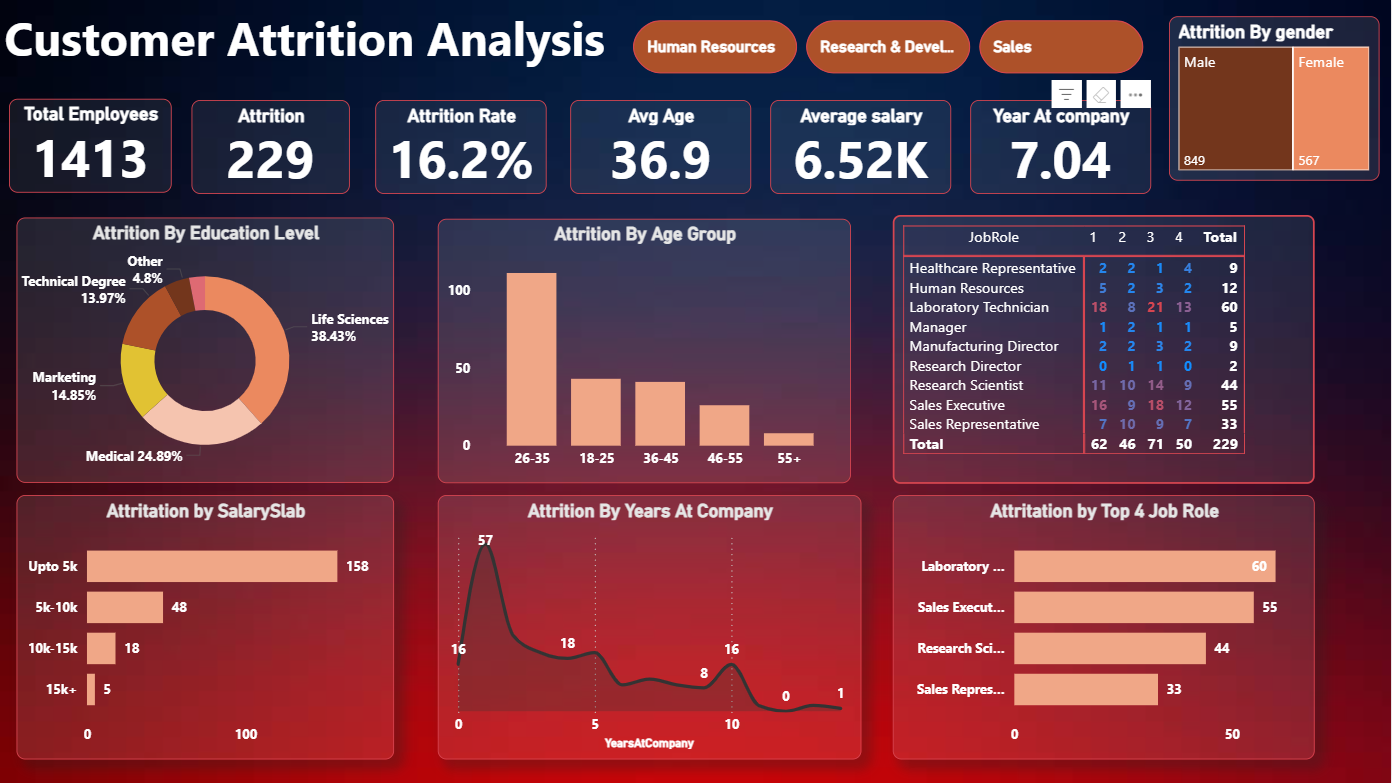

What the dashboard file says about the page in this screenshot:
{"tool":"powerbi","page":{"name":"Page 1","canvas":[1280,720],"ordinal":0},"visuals":[{"type":"card","title":"Total Employees","fields":{"Values":["Count(HR_Analytics.EmpID)"]},"box":[9.6,90.6,149.6,86.4],"z":0},{"type":"textbox","box":[0,0,577.7,72.7],"z":1000},{"type":"card","title":"Attrition","fields":{"Values":["Sum(HR_Analytics.Customer Attritation)"]},"box":[177,91.9,145.5,86.4],"z":2000},{"type":"card","title":"Attrition Rate","fields":{"Values":["Measures (2).Attrition Rate"]},"box":[345.8,91.9,157.8,86.4],"z":3000},{"type":"card","title":"Avg Age","fields":{"Values":["Avg(HR_Analytics.Age)"]},"box":[525.6,91.9,166,86.4],"z":4000},{"type":"card","title":"Average salary","fields":{"Values":["Avg(HR_Analytics.MonthlyIncome)"]},"box":[709.4,91.9,166,86.4],"z":5000},{"type":"card","title":"Year At company","fields":{"Values":["Avg(HR_Analytics.YearsAtCompany)"]},"box":[893.3,91.9,166,86.4],"z":6000},{"type":"treemap","title":"Attrition By gender","fields":{"Group":["HR_Analytics.Gender"],"Values":["CountNonNull(HR_Analytics.EmpID)"]},"box":[1075.8,15.1,193.5,150.9],"z":7000},{"type":"donutChart","title":"Attrition By Education Level","fields":{"Category":["HR_Analytics.EducationField"],"Y":["Sum(HR_Analytics.Customer Attritation)"]},"box":[16.5,200.3,347.2,244.3],"z":8000},{"type":"columnChart","title":"Attrition By Age Group","fields":{"Category":["HR_Analytics.AgeGroup"],"Y":["Sum(HR_Analytics.Customer Attritation)"]},"box":[403.4,201.7,380.1,242.9],"z":9000},{"type":"pivotTable","fields":{"Rows":["HR_Analytics.JobRole"],"Columns":["HR_Analytics.JobSatisfaction"],"Values":["Sum(HR_Analytics.Customer Attritation)"]},"box":[822,197.6,388.3,247],"z":10000},{"type":"clusteredBarChart","title":"Attritation by SalarySlab","fields":{"Y":["Sum(HR_Analytics.Customer Attritation)"],"Category":["HR_Analytics.SalarySlab"]},"box":[16.5,455.6,347.2,242.9],"z":11000},{"type":"clusteredBarChart","title":"Attritation by Top 4  Job Role","fields":{"Y":["Sum(HR_Analytics.Customer Attritation)"],"Category":["HR_Analytics.JobRole"]},"box":[822,455.6,388.3,242.9],"z":12000},{"type":"areaChart","title":"Attrition By Years At Company","fields":{"Category":["HR_Analytics.YearsAtCompany"],"Y":["Sum(HR_Analytics.Customer Attritation)"]},"box":[403.4,455.6,389.7,242.9],"z":13000},{"type":"advancedSlicerVisual","fields":{"Values":["HR_Analytics.Department"]},"box":[577.7,13.7,481.6,59],"z":14000}]}

Visuals, with their boxes in screenshot pixels (x1, y1, x2, y2), scaled from the page's 1280x720 canvas onto the 1392x783 screenshot:
"Total Employees" card: l=10, t=99, r=173, b=192
textbox: l=0, t=0, r=628, b=79
"Attrition" card: l=192, t=100, r=351, b=194
"Attrition Rate" card: l=376, t=100, r=548, b=194
"Avg Age" card: l=572, t=100, r=752, b=194
"Average salary" card: l=771, t=100, r=952, b=194
"Year At company" card: l=971, t=100, r=1152, b=194
"Attrition By gender" treemap: l=1170, t=16, r=1380, b=181
"Attrition By Education Level" donutChart: l=18, t=218, r=396, b=484
"Attrition By Age Group" columnChart: l=439, t=219, r=852, b=484
pivotTable - HR_Analytics.JobRole x HR_Analytics.JobSatisfaction: l=894, t=215, r=1316, b=484
"Attritation by SalarySlab" clusteredBarChart: l=18, t=495, r=396, b=760
"Attritation by Top 4  Job Role" clusteredBarChart: l=894, t=495, r=1316, b=760
"Attrition By Years At Company" areaChart: l=439, t=495, r=862, b=760
advancedSlicerVisual - HR_Analytics.Department: l=628, t=15, r=1152, b=79
